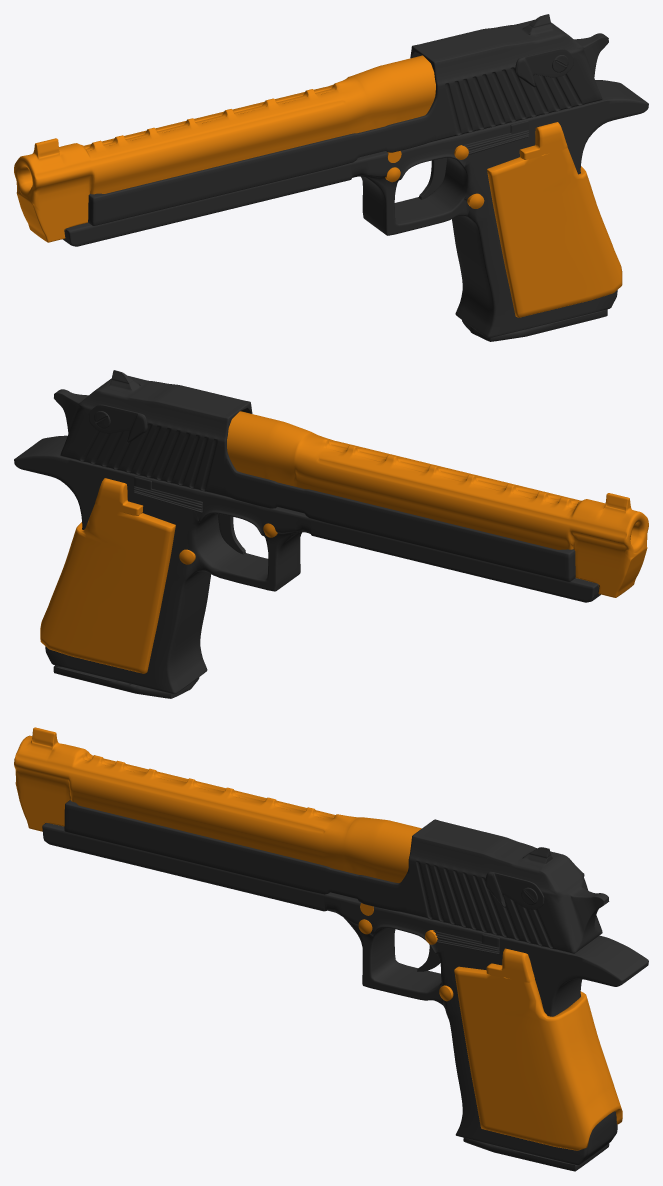
File: GoldDeagle.glb
The picture shows the model from 3 angles, top to bottom: view 1: azimuth 30°, elevation 25°; view 2: azimuth 150°, elevation 25°; view 3: azimuth 330°, elevation 25°; orthographic projection.
Visible parts, largest first — view 1: deagle for ele; view 2: deagle for ele; view 3: deagle for ele.
Boxes of the visible parts, x1,y1,x2,y2 form: deagle for ele: (14,14,648,341); deagle for ele: (14,370,648,698); deagle for ele: (14,727,648,1171).
Bounding box in the file's own units: 73.73 × 34.66 × 7.98.
